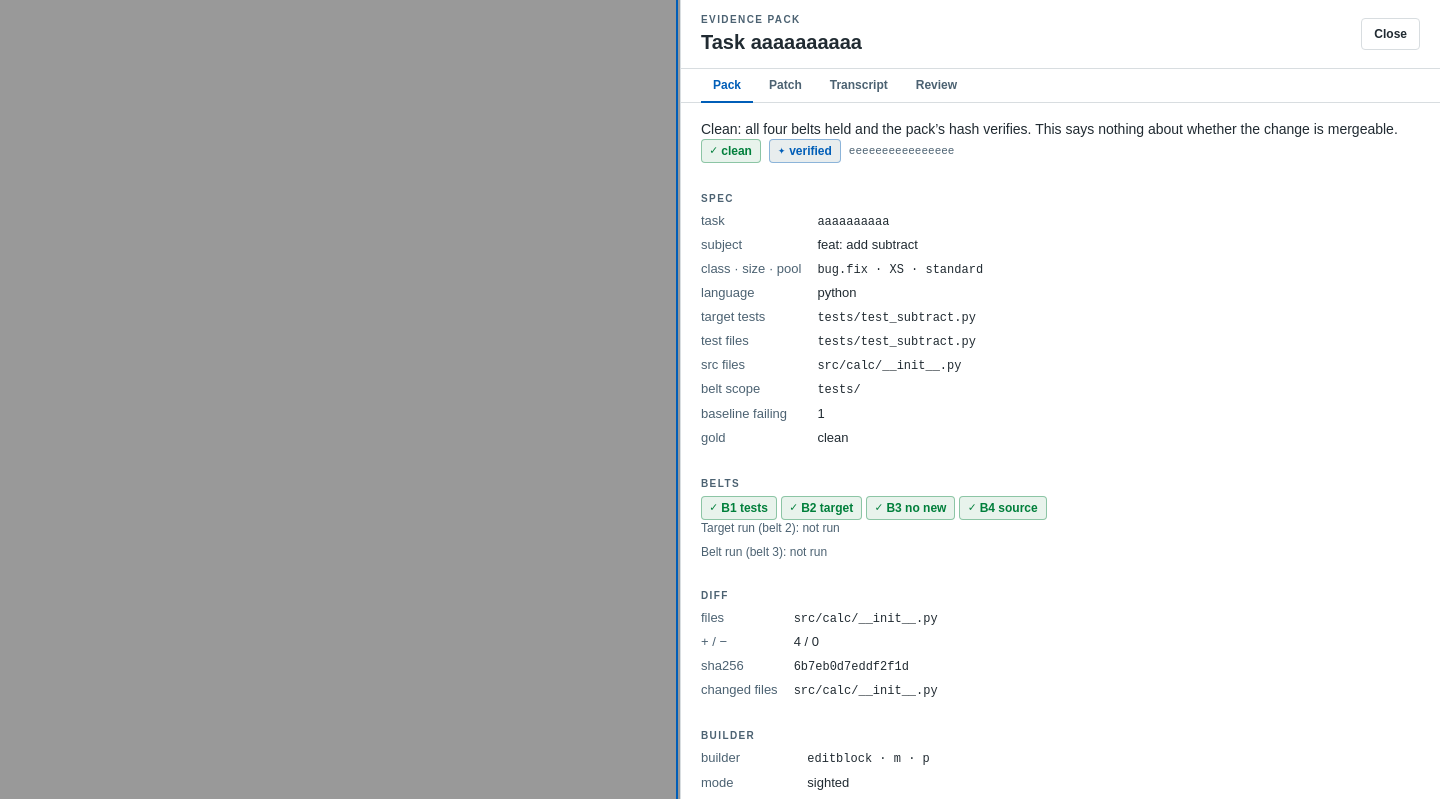
Test: EvidenceDrawer: Patch tab › fetches the retained patch, verifies its hash against the pack and lists the files
Click the tab with test id "tab-patch": (785, 86) x1=757 y1=68 x2=814 y2=102
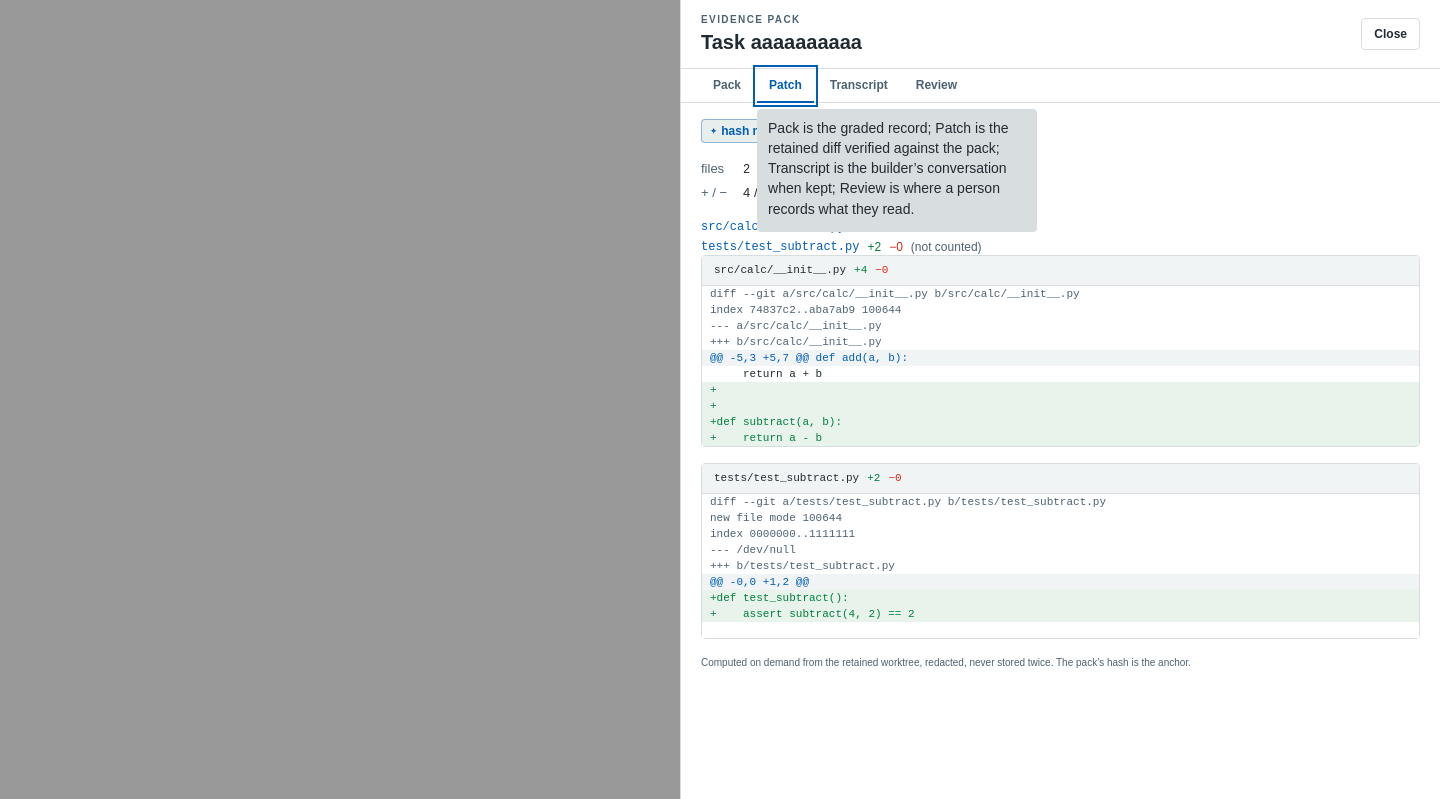
Check: the picture with test id "patch-verified" is shown, box x1=701 y1=118 x2=841 y2=142
Check: the number of list items is 2, box x1=701 y1=220 x2=888 y2=234; x1=701 y1=240 x2=982 y2=254
Check: the list item "src/calc/__init__.py +4 −0" is shown, box x1=701 y1=220 x2=888 y2=234
